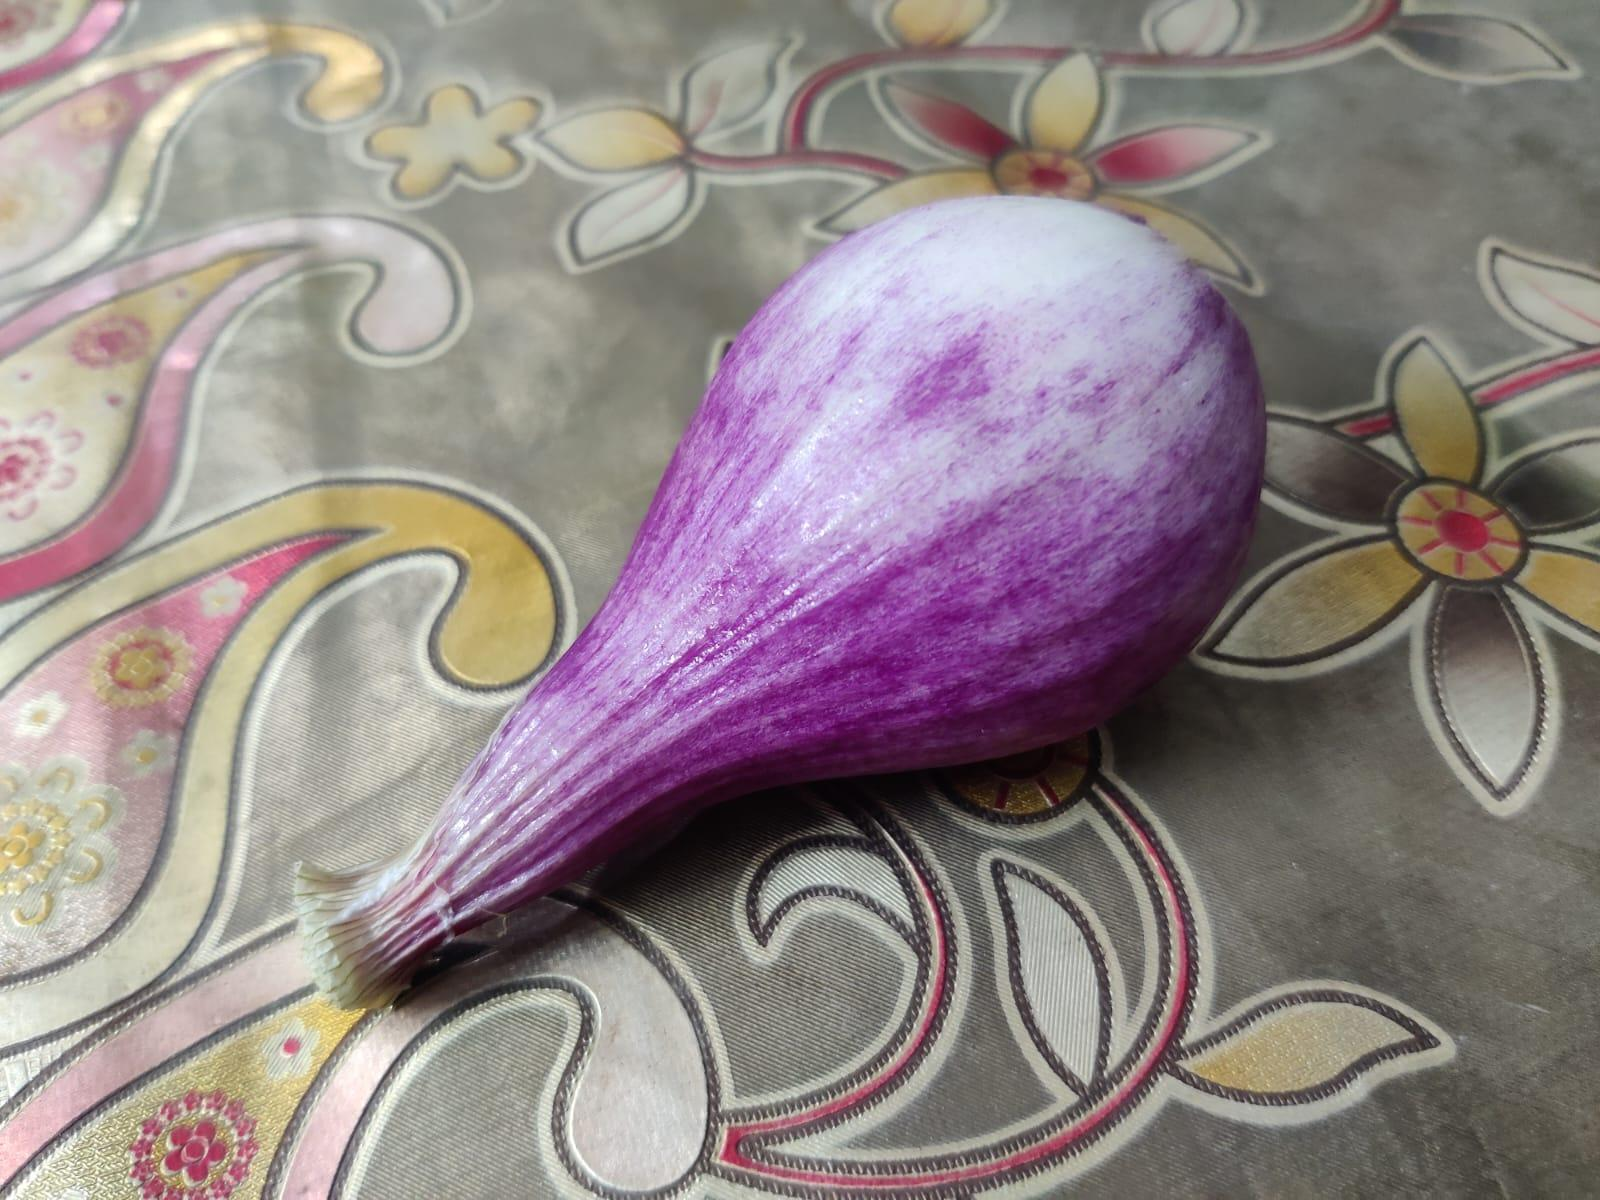non-mango: (300, 195, 1274, 1018)
